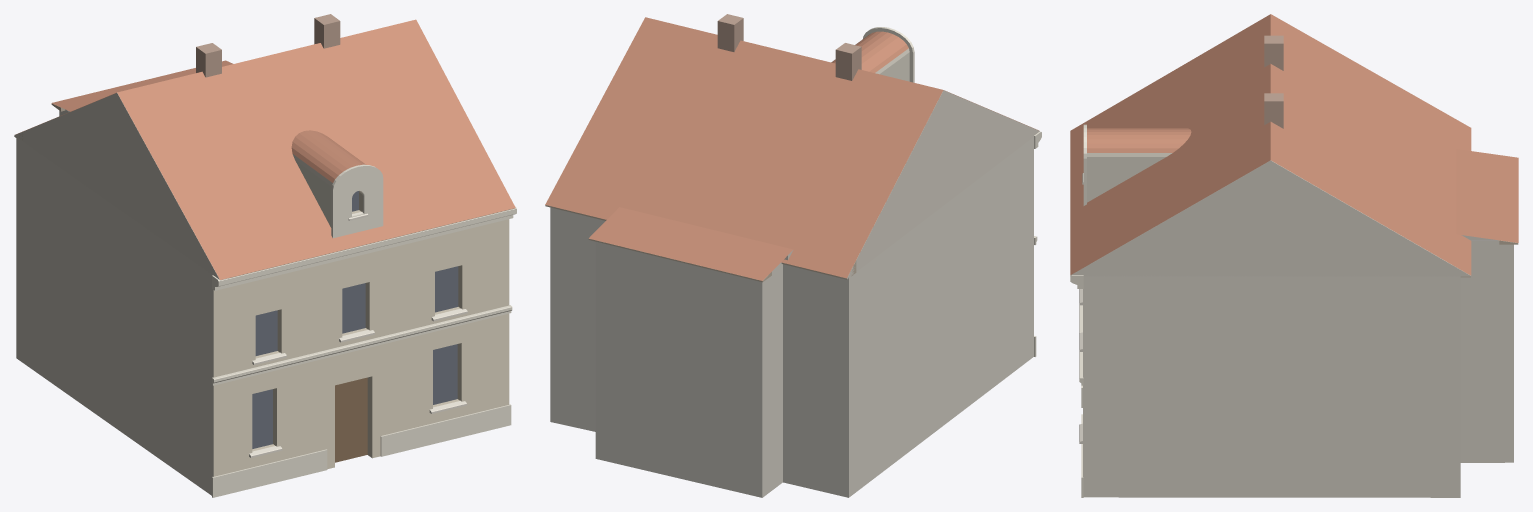
3 renders of one model, left to right at view 1: azimuth 30°, elevation 25°; view 2: azimuth 150°, elevation 25°; view 3: azimuth 270°, elevation 25°, orthographic.
Parts seen in each view (by area): view 1: CP_1178_Masonry, CP_1178_Roof, CP_1178_Gable_L_gable, CP_1178_Dormer_AG, CP_1178_Dormer_AG_frame, CP_1178_Cornice_main_0, CP_1178_Cornice_plinth_1, CP_1178_Cornice_string_0, CP_1178_Cornice_plinth_0, CP_1178_WingRoof_RearWing, CP_1178_Chimney_1, CP_1178_Chimney_0; view 2: CP_1178_Masonry, CP_1178_Roof, CP_1178_Gable_L_gable, CP_1178_WingRoof_RearWing, CP_1178_Dormer_AG, CP_1178_Chimney_0, CP_1178_Chimney_1; view 3: CP_1178_Masonry, CP_1178_Roof, CP_1178_Gable_R_gable, CP_1178_WingRoof_RearWing, CP_1178_Dormer_AG, CP_1178_Chimney_0, CP_1178_Chimney_1.
Boxes of the visible parts, x1,y1,x2,y2 form: CP_1178_Masonry: (16,109,509,495); CP_1178_Roof: (15,19,515,279); CP_1178_Gable_L_gable: (14,93,228,280); CP_1178_Dormer_AG: (291,130,365,227); CP_1178_Dormer_AG_frame: (331,164,383,238); CP_1178_Cornice_main_0: (212,206,516,290); CP_1178_Cornice_plinth_1: (380,404,511,456); CP_1178_Cornice_string_0: (212,305,512,385); CP_1178_Cornice_plinth_0: (212,449,327,497); CP_1178_WingRoof_RearWing: (51,60,232,111); CP_1178_Chimney_1: (314,14,340,48); CP_1178_Chimney_0: (196,43,221,77); CP_1178_Masonry: (550,137,1033,497); CP_1178_Roof: (545,17,1038,278); CP_1178_Gable_L_gable: (839,90,1039,278); CP_1178_WingRoof_RearWing: (589,207,793,280); CP_1178_Dormer_AG: (831,31,909,81); CP_1178_Chimney_0: (835,43,861,80); CP_1178_Chimney_1: (717,14,743,51); CP_1178_Masonry: (1083,240,1513,497); CP_1178_Roof: (1070,14,1471,275); CP_1178_Gable_R_gable: (1070,160,1470,276); CP_1178_WingRoof_RearWing: (1456,149,1518,242); CP_1178_Dormer_AG: (1087,128,1191,202); CP_1178_Chimney_0: (1264,35,1283,70); CP_1178_Chimney_1: (1264,93,1283,128).
Bounding box in the file's own units: 11.01 × 12.4 × 14.09.
